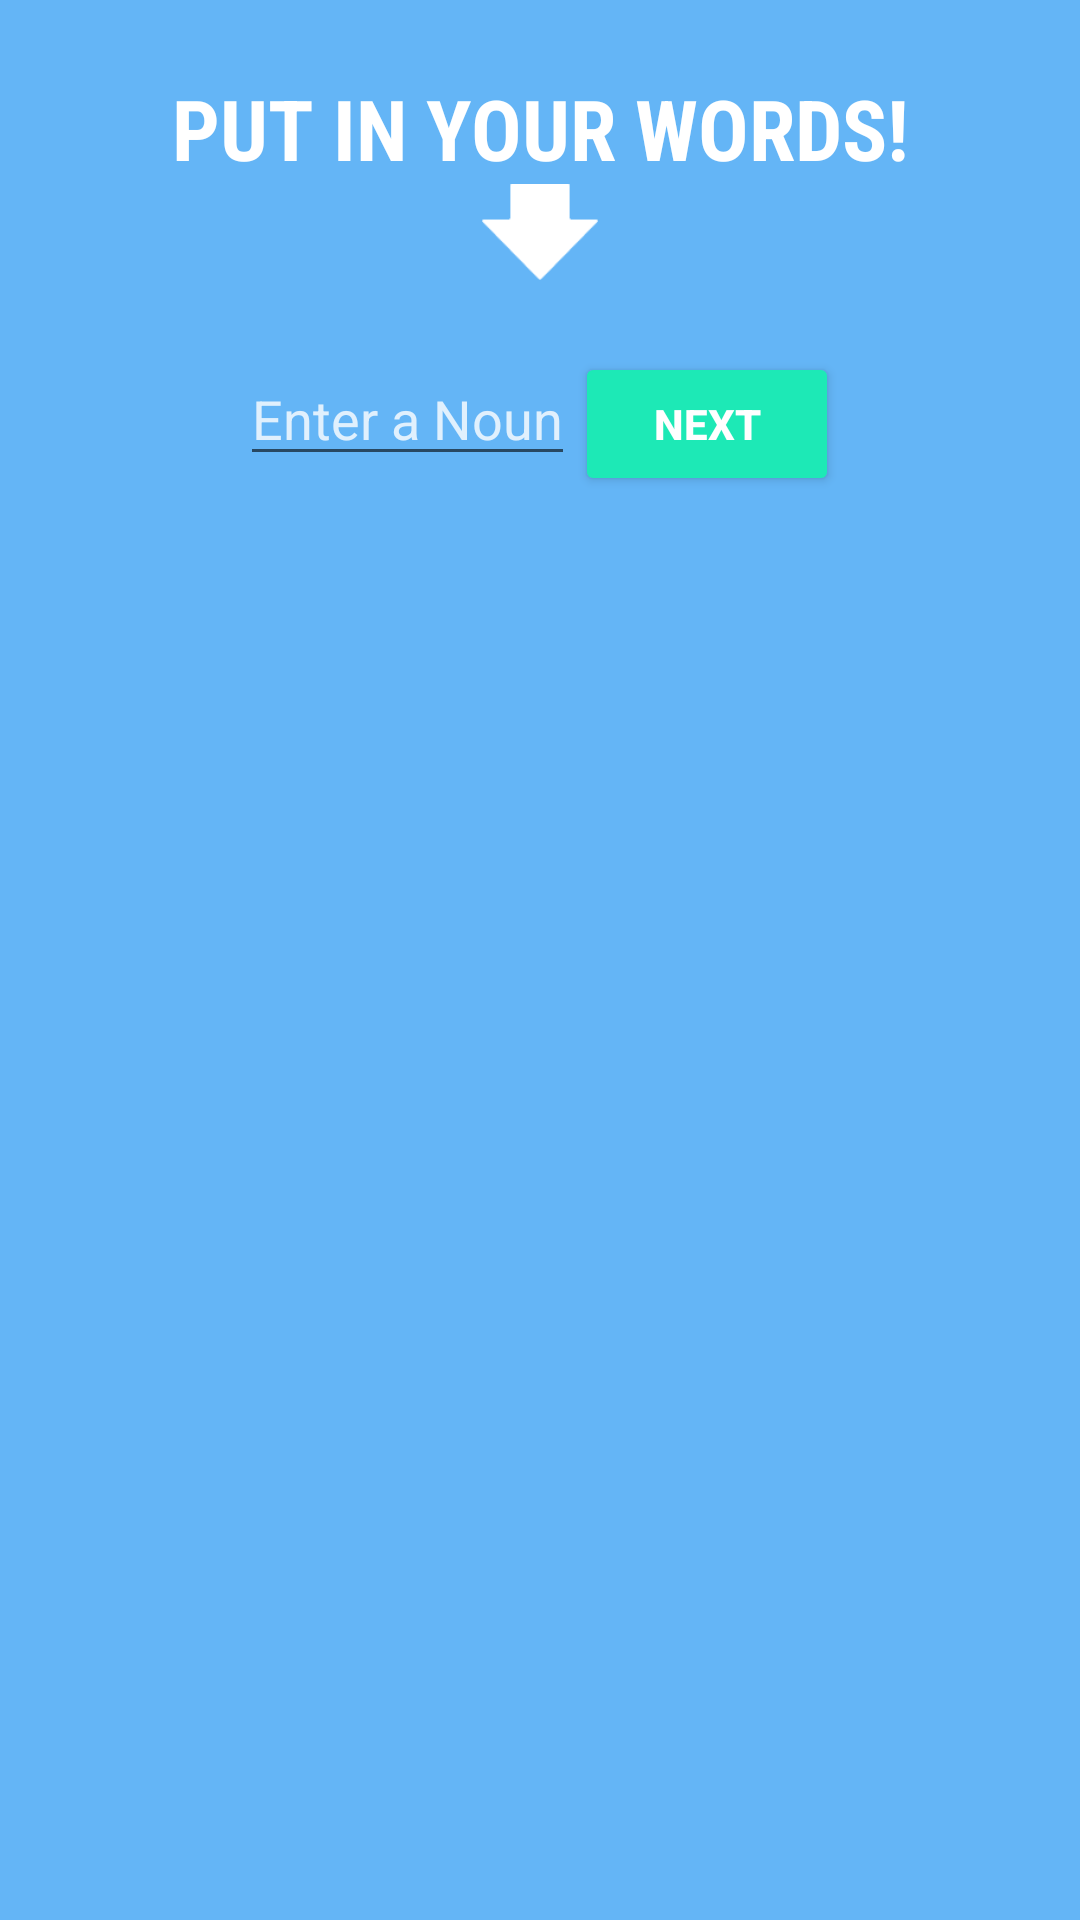

Where to tap for icons on this 1080 x 1920 app screen, as (x=x, y=y):
arrow: (x=540, y=232)
